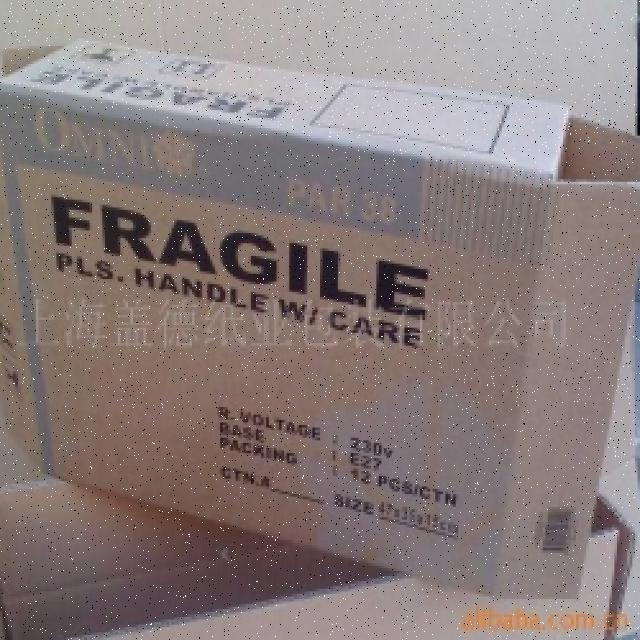box: (0, 20, 640, 594)
